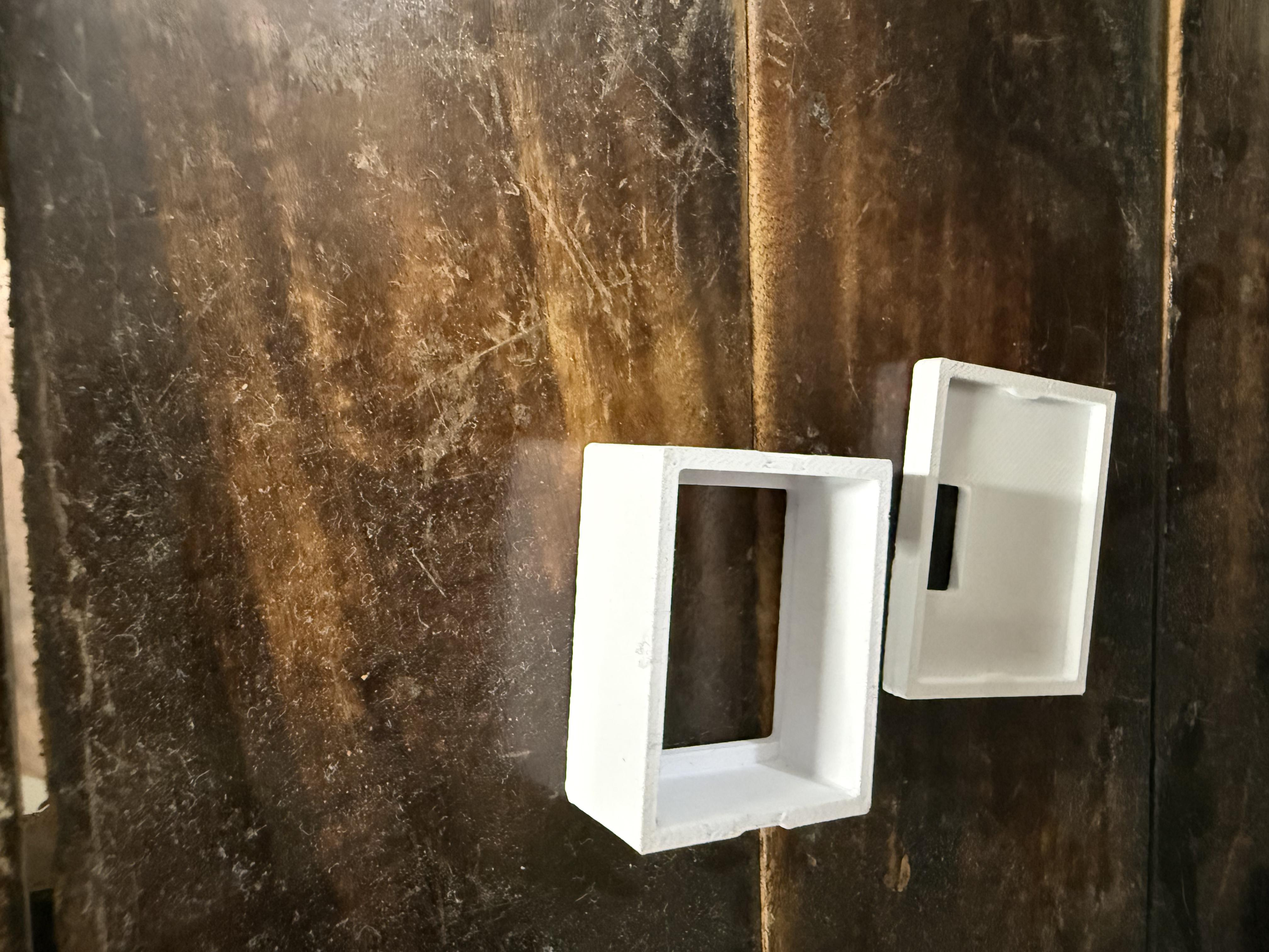enclosure: (565, 443, 894, 856), (883, 358, 1117, 700)
